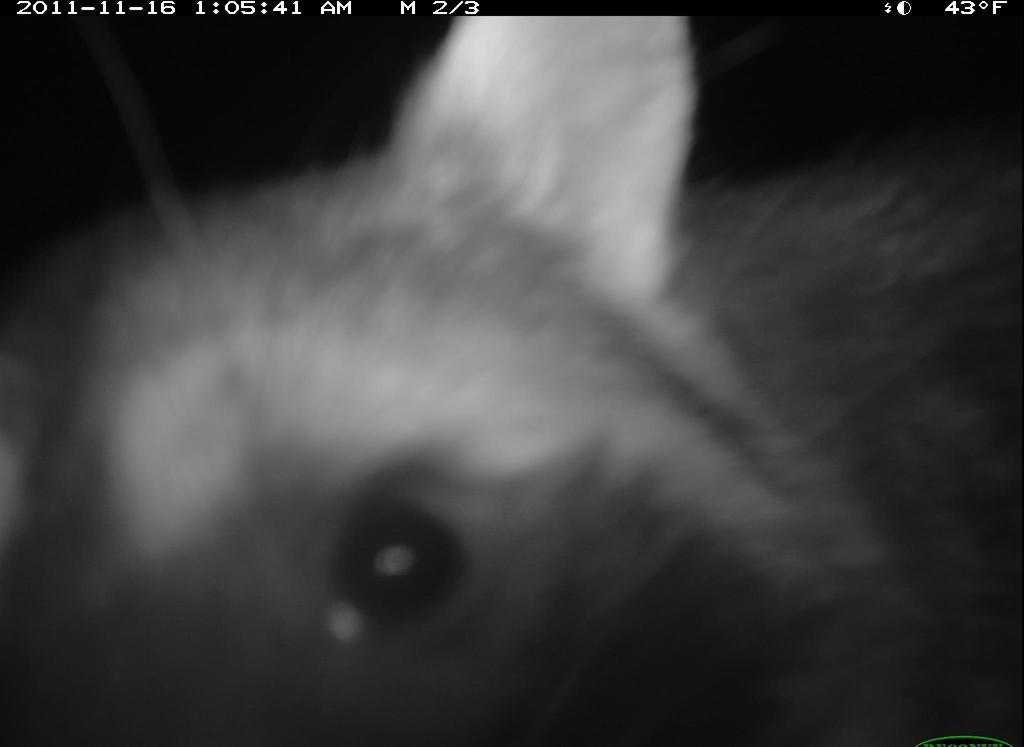raccoon: (9, 3, 1023, 747)
